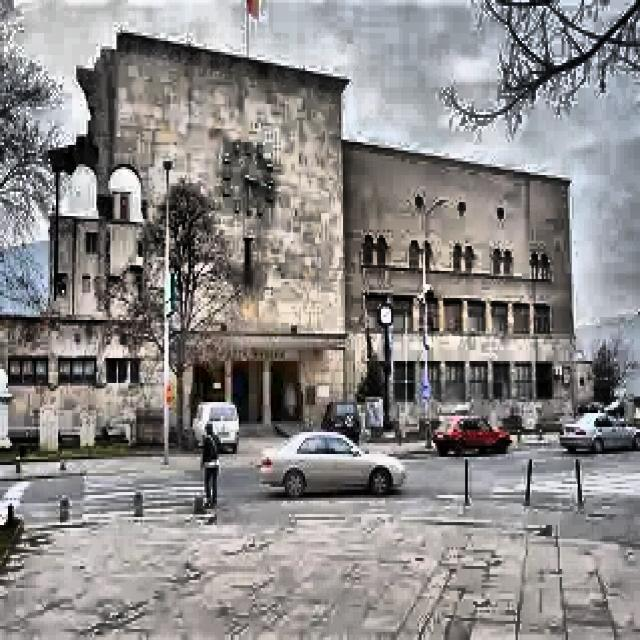old railway: (0, 19, 580, 437)
